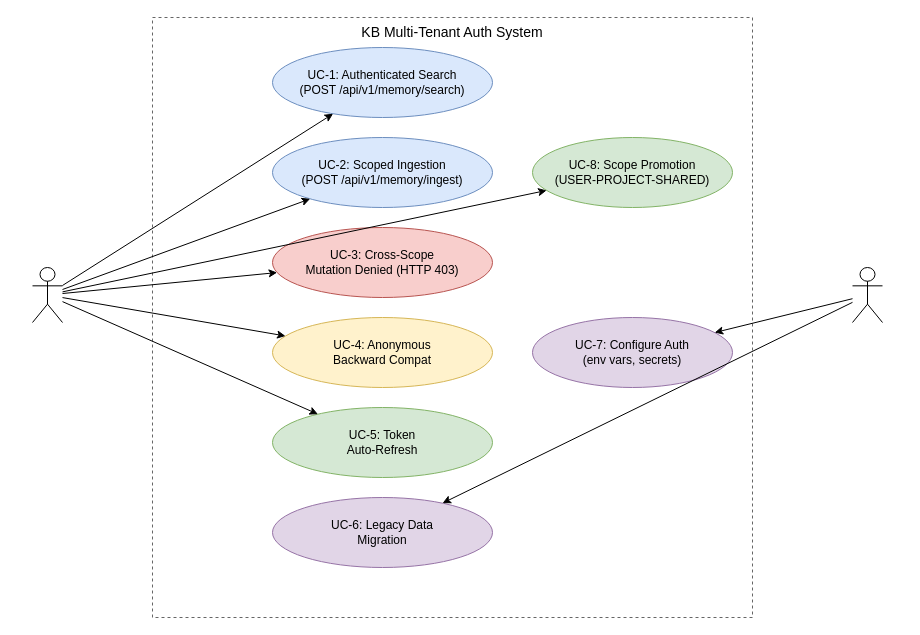
The diagram is 920 pixels wide and 635 high, and some of its shapes have lost their labels. The shapes that lost their labels are listed below. From the top down, each one's box as (x1, y1, x2, y2) in pixels, then its label:
(32, 266, 62, 322): Developer (Extension)
(852, 266, 882, 322): System Administrator
